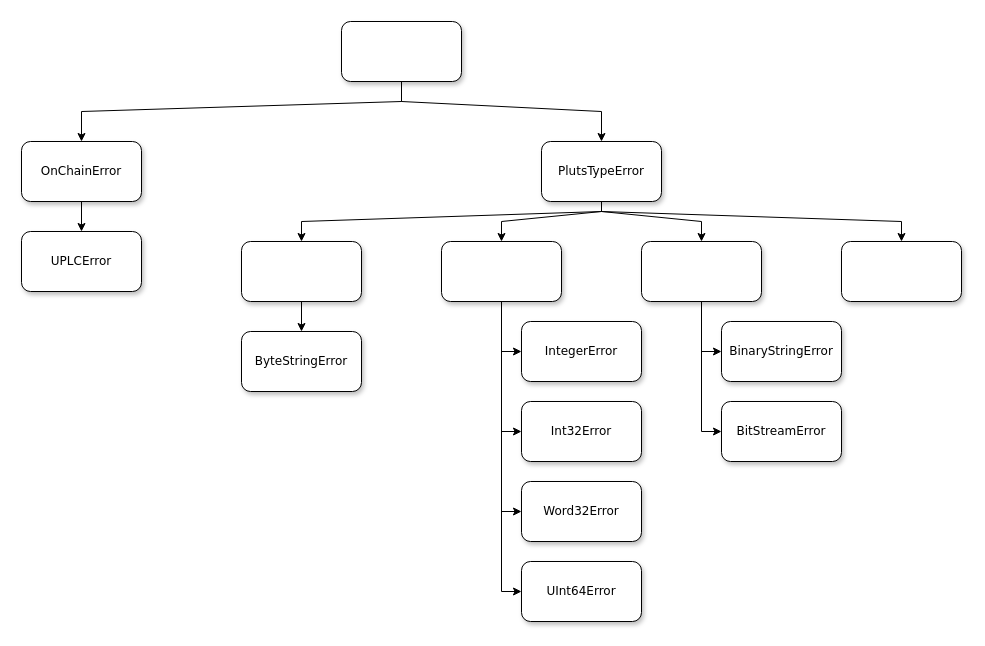
Some shapes in this 985 by 646 pixel diagram are drawn without their labels. Here are the shapes that lost their labels. From the top down, the centre of each, then its label:
point (402, 52): BasePlutsError
point (302, 272): HexStringError
point (502, 272): PlutsIntError
point (702, 272): PlutsBitsError
point (902, 272): PlutsStructError
